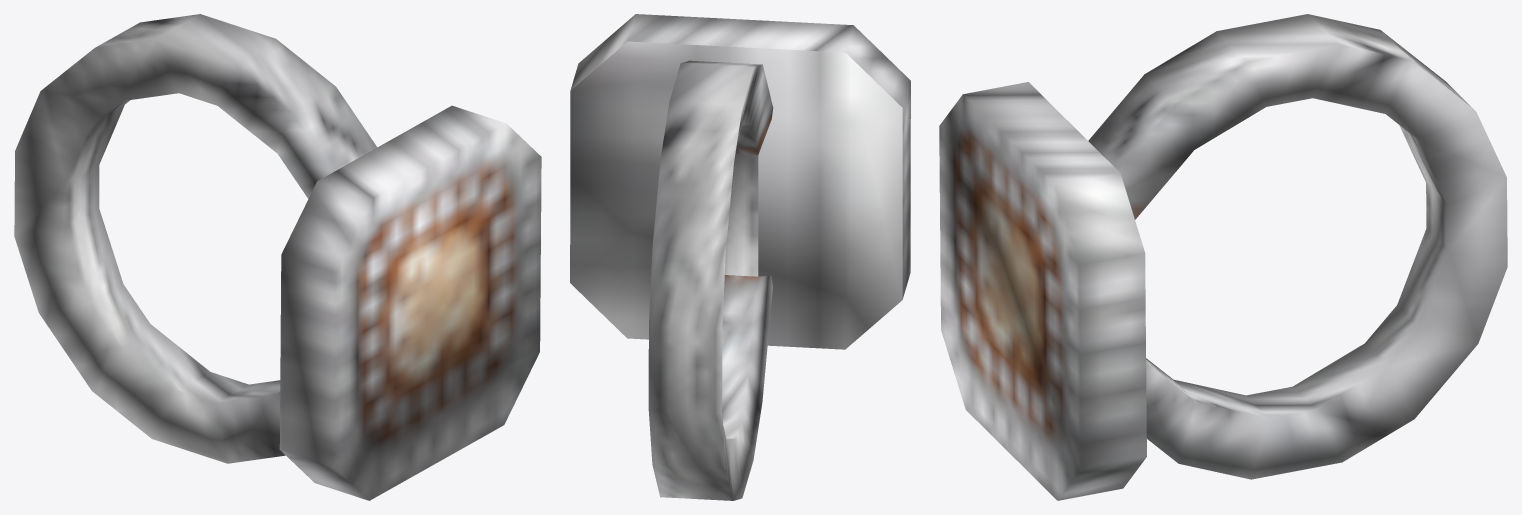
Rendered from ring.fbx.
The picture shows the model from 3 angles, left to right: view 1: azimuth 30°, elevation 25°; view 2: azimuth 150°, elevation 25°; view 3: azimuth 270°, elevation 25°; orthographic projection. The views are drawn at different scales.
Parts seen in each view (by area): view 1: Circle.037; view 2: Circle.037; view 3: Circle.037.
Part boxes in pixels (x1,y1,x2,y2): Circle.037: (14, 14, 541, 500); Circle.037: (570, 14, 910, 500); Circle.037: (939, 14, 1507, 500).
Size of the model in its own units: 9.95 by 11.31 by 13.9.
Materials: 1 (1 with a texture image).
